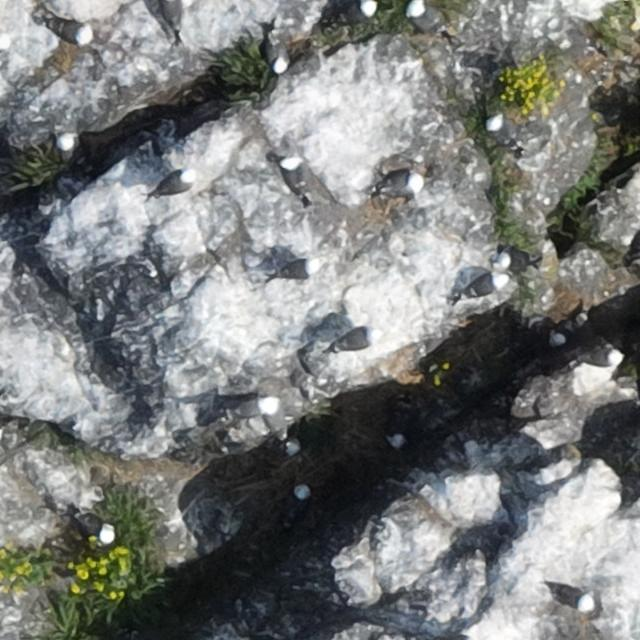umineko: (485, 114, 523, 155), (221, 397, 276, 422), (377, 172, 423, 199), (332, 327, 382, 350), (77, 515, 115, 541), (46, 19, 88, 42), (553, 586, 593, 608), (54, 133, 80, 165), (388, 407, 407, 449), (412, 6, 442, 31), (276, 261, 316, 279), (283, 157, 302, 194), (158, 172, 190, 193), (465, 276, 498, 296), (497, 252, 532, 270), (268, 40, 287, 72), (587, 348, 620, 366), (290, 486, 311, 513), (163, 1, 180, 31), (354, 1, 377, 21)
